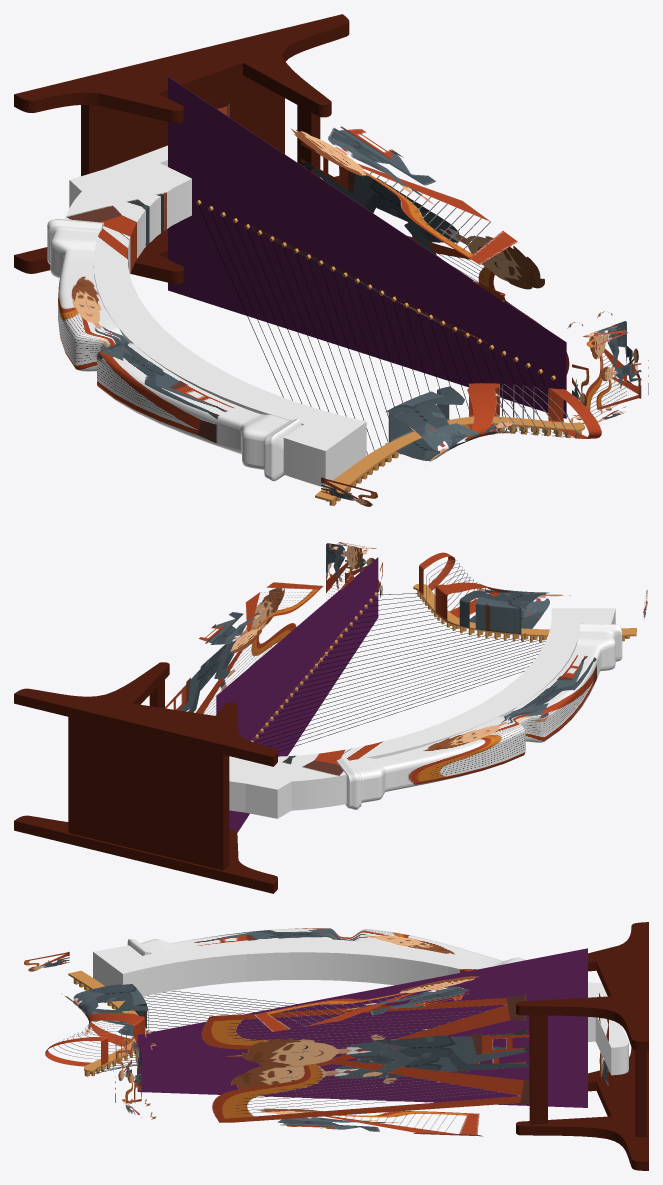
The model's file is C_Harp.fbx.
3 views of the same model, one above another, from view 1: azimuth 30°, elevation 25°; view 2: azimuth 150°, elevation 25°; view 3: azimuth 270°, elevation 25° (orthographic). The views are drawn at different scales.
Visible parts, largest first — view 1: S_board, Pillar, Pillar_d, Stand02, S_box, Stand04, H_curve, peg_brd, Stand01, S_top, Stand03, S_mid; view 2: Stand04, Pillar_d, S_board, Pillar, Stand02, S_box, H_curve, Stand01, peg_brd; view 3: S_box, S_board, Pillar, Stand02, Stand01, H_curve, Pillar_d, Stand03, Stand04, peg_brd, S_top, H_end.
Boxes of the visible parts, bbox=[...] form: S_board: bbox=[168, 76, 566, 418]; Pillar: bbox=[65, 145, 366, 487]; Pillar_d: bbox=[47, 218, 301, 481]; Stand02: bbox=[14, 14, 349, 122]; S_box: bbox=[217, 103, 626, 417]; Stand04: bbox=[81, 75, 284, 176]; H_curve: bbox=[385, 383, 601, 465]; peg_brd: bbox=[315, 416, 584, 501]; Stand01: bbox=[14, 176, 339, 283]; S_top: bbox=[572, 325, 648, 423]; Stand03: bbox=[297, 105, 320, 177]; S_mid: bbox=[252, 226, 487, 343]; Stand04: bbox=[68, 717, 229, 870]; Pillar_d: bbox=[336, 623, 622, 809]; S_board: bbox=[216, 557, 378, 832]; Pillar: bbox=[229, 608, 615, 818]; Stand02: bbox=[14, 662, 277, 766]; S_box: bbox=[164, 543, 362, 715]; H_curve: bbox=[419, 552, 570, 634]; Stand01: bbox=[14, 815, 277, 893]; peg_brd: bbox=[413, 583, 636, 636]; S_box: bbox=[134, 976, 608, 1136]; S_board: bbox=[137, 948, 587, 1107]; Pillar: bbox=[93, 939, 628, 1075]; Stand02: bbox=[516, 922, 648, 1050]; Stand01: bbox=[516, 1047, 648, 1170]; H_curve: bbox=[45, 984, 148, 1066]; Pillar_d: bbox=[127, 928, 525, 965]; Stand03: bbox=[529, 1015, 547, 1124]; Stand04: bbox=[635, 1050, 646, 1137]; peg_brd: bbox=[68, 970, 146, 1071]; S_top: bbox=[113, 1036, 141, 1114]; H_end: bbox=[24, 952, 69, 971].
Bounding box in the file's own units: 92.43 × 43.47 × 148.
